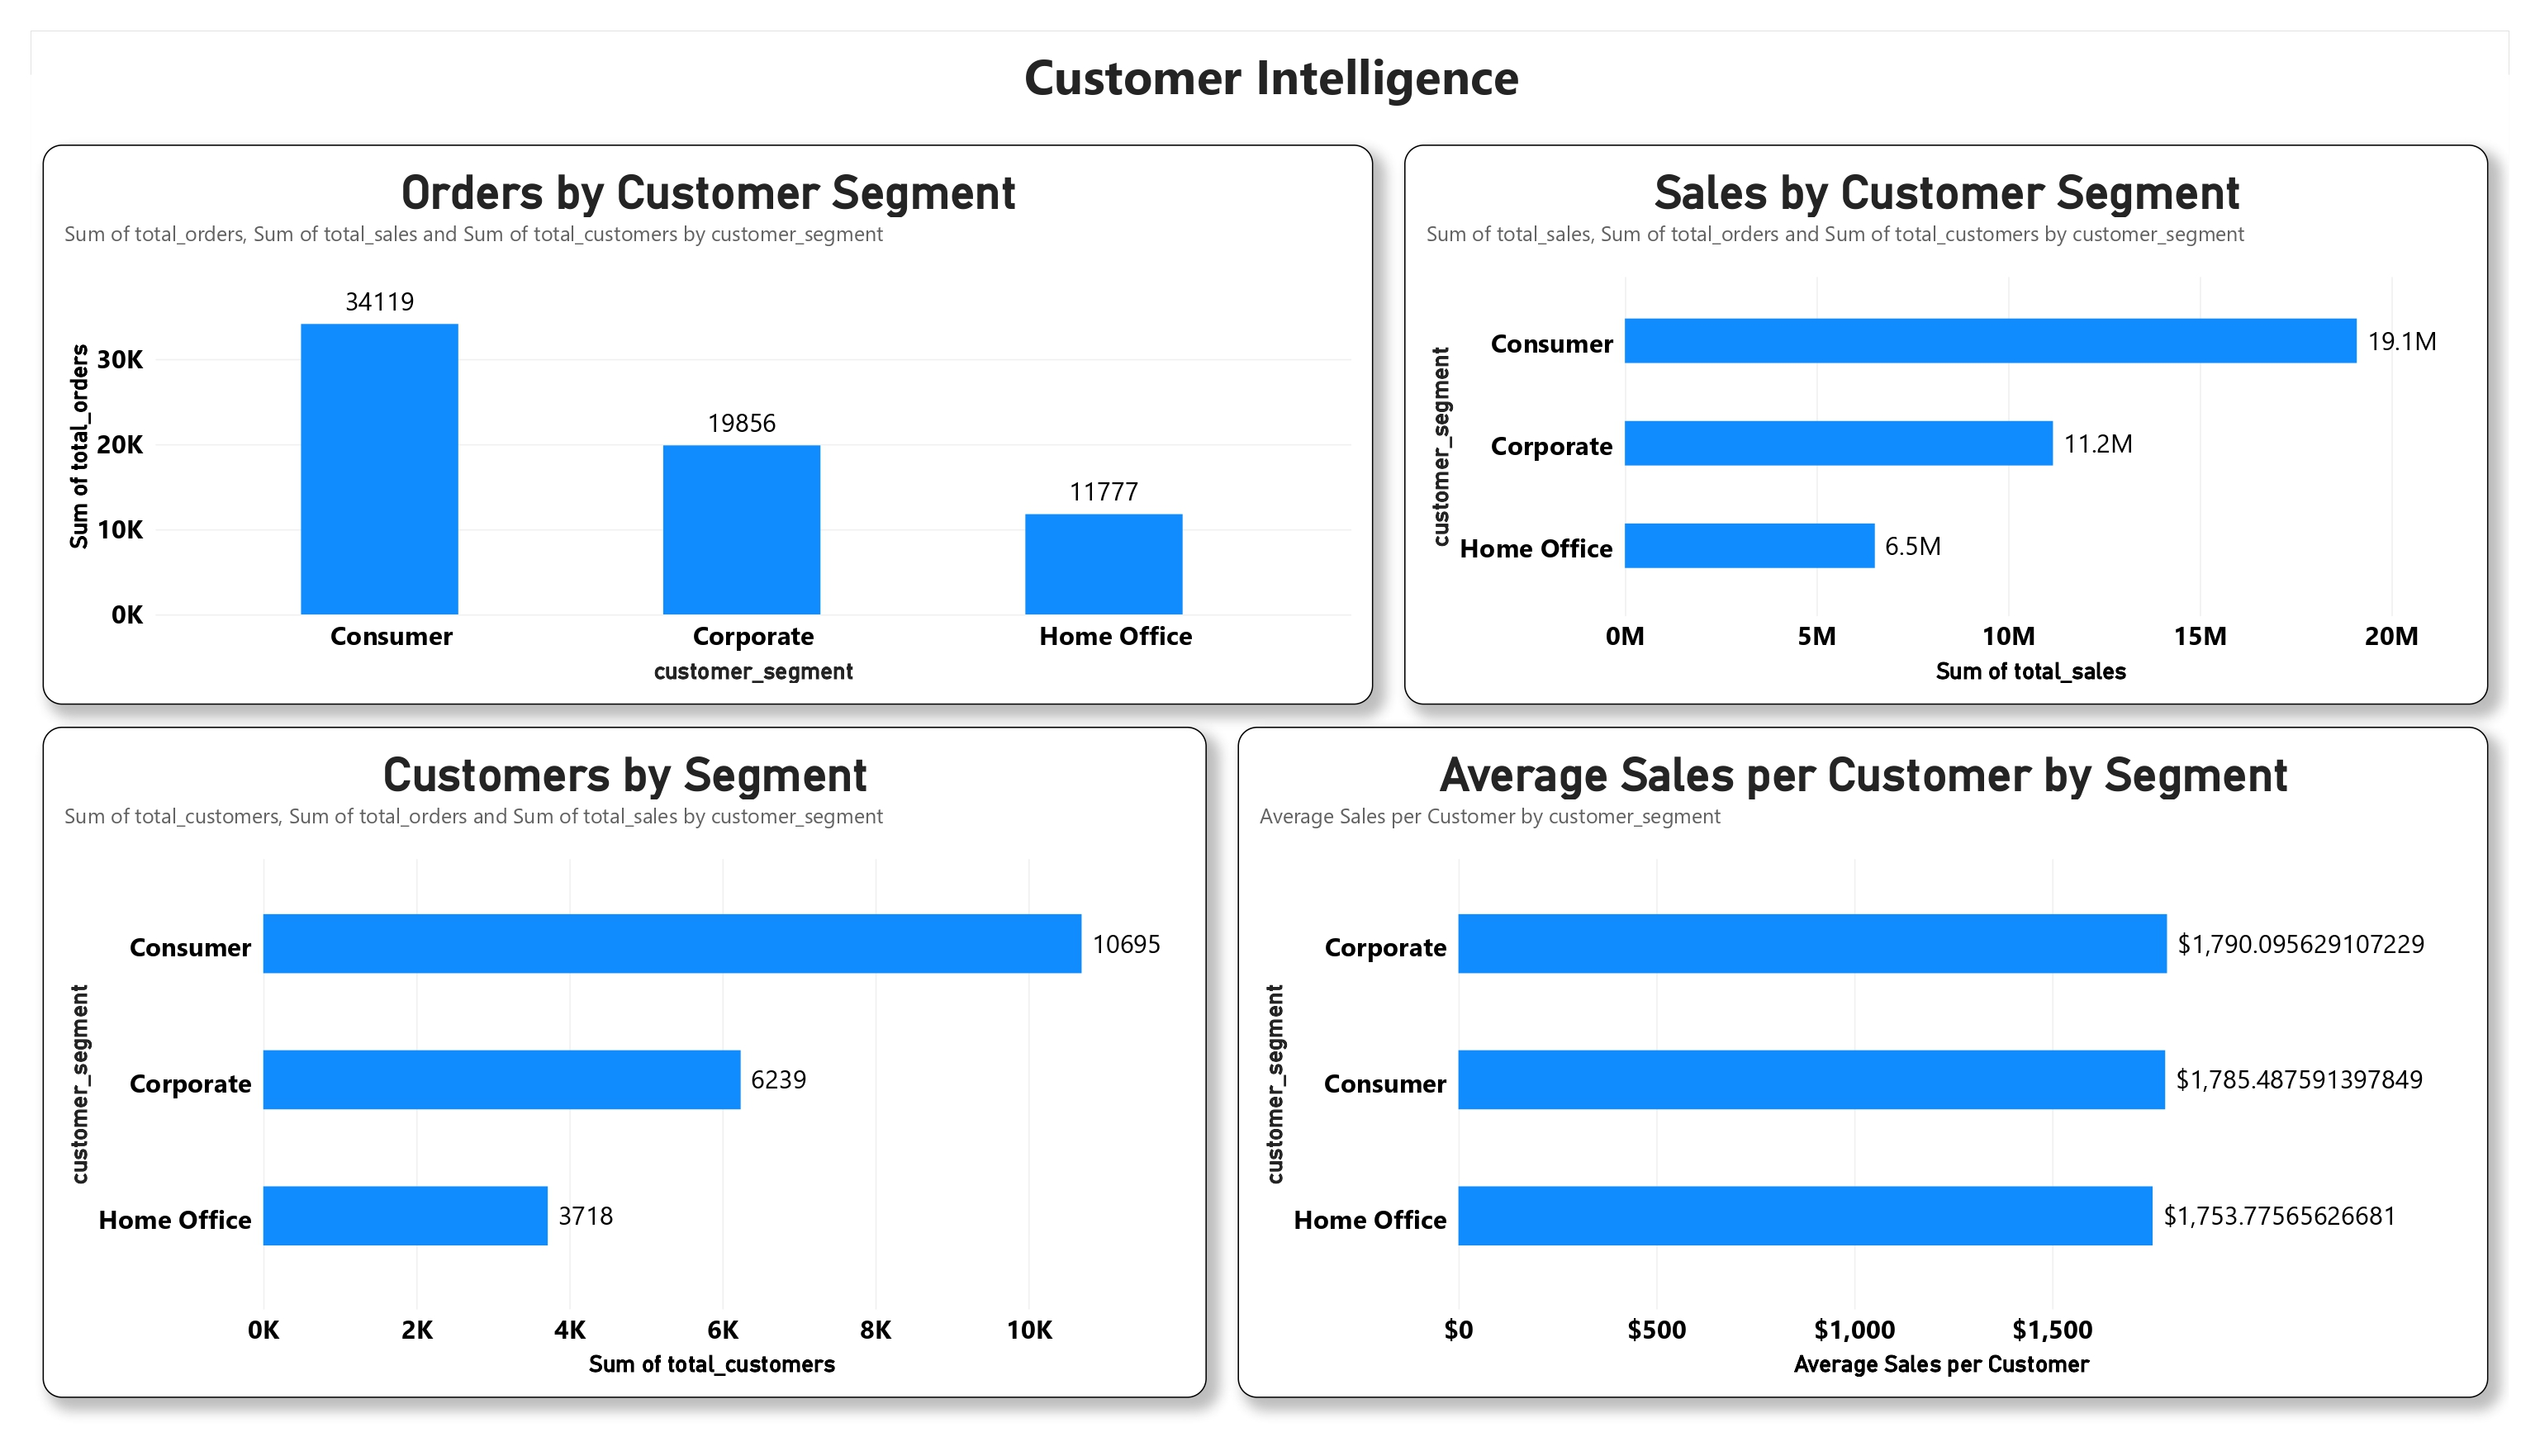

What the dashboard file says about the page in this screenshot:
{"tool":"powerbi","page":{"name":"Customer Intelligence","canvas":[1920,1080],"ordinal":2},"visuals":[{"type":"textbox","box":[685.4,8.6,552.2,79.5],"z":0},{"type":"clusteredBarChart","title":"Average Sales per Customer by Segment","fields":{"Category":["mart vw_customer_segment_performance.customer_segment"],"Y":["mart vw_customer_segment_performance.Average Sales per Customer"]},"box":[934.6,539.3,969,520],"z":1000},{"type":"clusteredBarChart","title":"Sales by Customer Segment","fields":{"Category":["mart vw_customer_segment_performance.customer_segment"],"Y":["Sum(mart vw_customer_segment_performance.total_sales)"]},"box":[1063.5,88.1,840.1,434],"z":2000},{"type":"clusteredColumnChart","title":"Orders by Customer Segment","fields":{"Category":["mart vw_customer_segment_performance.customer_segment"],"Y":["Sum(mart vw_customer_segment_performance.total_orders)"]},"box":[8.6,88.1,1031.3,434],"z":3000},{"type":"clusteredBarChart","title":"Customers by Segment","fields":{"Category":["mart vw_customer_segment_performance.customer_segment"],"Y":["Sum(mart vw_customer_segment_performance.total_customers)"]},"box":[8.6,539.3,902.4,520],"z":4000}]}

Visuals, with their boxes on the page's 1920x1080 design canvas (x1, y1, x2, y2). These are canvas units, not pixel positions in the 2540x1456 screenshot, which may show the page scaled, cropped or inside an application window:
textbox: rect(685, 9, 1238, 88)
"Average Sales per Customer by Segment" clusteredBarChart: rect(935, 539, 1904, 1059)
"Sales by Customer Segment" clusteredBarChart: rect(1064, 88, 1904, 522)
"Orders by Customer Segment" clusteredColumnChart: rect(9, 88, 1040, 522)
"Customers by Segment" clusteredBarChart: rect(9, 539, 911, 1059)
